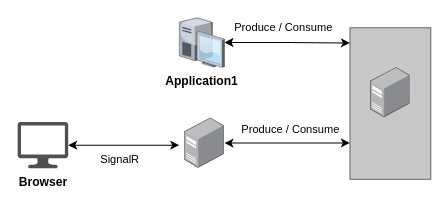
Some shapes in this 448 by 207 pixel diagram are drawn without their labels. Here are the shapes that lost their labels. From the top down, the box of each, then its label:
(370, 67, 410, 117): Kafka Server
(184, 117, 224, 168): Application2
